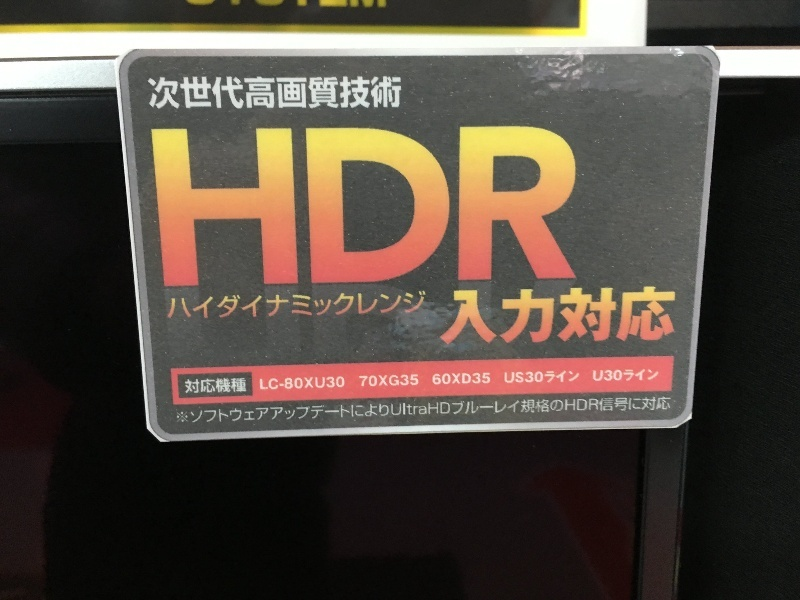text: (161, 126, 176, 289), (177, 126, 192, 289), (193, 126, 208, 289), (209, 126, 224, 289), (225, 126, 240, 289), (241, 126, 256, 289), (257, 126, 272, 289), (273, 126, 288, 289), (289, 126, 304, 289), (305, 126, 320, 289), (321, 126, 336, 289), (337, 126, 352, 289), (353, 126, 368, 289), (369, 126, 384, 289), (385, 126, 400, 289), (401, 126, 416, 289), (417, 126, 432, 289), (433, 126, 448, 289), (449, 126, 464, 289), (465, 126, 480, 289), (481, 126, 496, 289), (497, 126, 512, 289), (513, 126, 528, 289), (529, 126, 544, 289), (545, 126, 560, 289), (561, 126, 576, 289), (150, 126, 160, 289), (449, 286, 464, 344), (465, 286, 480, 344), (481, 286, 496, 344), (497, 286, 512, 344), (513, 286, 528, 344), (529, 286, 544, 344), (545, 286, 560, 344), (561, 286, 576, 344), (577, 286, 592, 344), (593, 286, 608, 344), (609, 286, 624, 344), (625, 286, 640, 344), (641, 286, 656, 344), (657, 286, 672, 344), (161, 76, 176, 110), (177, 76, 192, 110), (193, 76, 208, 110), (209, 76, 224, 110), (225, 76, 240, 110), (241, 76, 256, 110), (257, 76, 272, 110), (273, 76, 288, 110), (289, 76, 304, 110), (305, 76, 320, 110), (321, 76, 336, 110), (337, 76, 352, 110), (353, 76, 368, 110), (369, 76, 384, 110), (385, 76, 400, 110), (177, 290, 192, 321), (193, 290, 208, 321), (209, 290, 224, 321), (225, 290, 240, 321), (241, 290, 256, 321), (257, 290, 272, 321), (273, 290, 288, 321), (289, 290, 304, 321), (305, 290, 320, 321), (321, 290, 336, 321), (337, 290, 352, 321), (353, 290, 368, 321), (369, 290, 384, 321), (385, 290, 400, 321), (401, 290, 416, 321), (440, 286, 448, 344), (177, 396, 192, 426), (193, 396, 208, 426), (209, 396, 224, 426), (225, 396, 240, 426), (241, 396, 256, 426), (257, 396, 272, 426), (273, 396, 288, 426), (289, 396, 304, 426), (305, 396, 320, 426), (321, 396, 336, 426), (337, 396, 352, 426), (353, 396, 368, 426), (369, 396, 384, 426), (385, 396, 400, 426), (401, 396, 416, 426), (417, 396, 432, 426), (433, 396, 448, 426), (449, 396, 464, 426), (465, 396, 480, 426), (481, 396, 496, 426), (497, 396, 512, 426), (513, 396, 528, 426), (529, 396, 544, 426), (545, 396, 560, 426), (561, 396, 576, 426), (577, 396, 592, 426), (593, 396, 608, 426), (609, 396, 624, 426), (625, 396, 640, 426), (641, 396, 656, 426), (657, 396, 672, 426), (148, 76, 160, 110), (577, 126, 579, 289), (167, 290, 176, 321), (417, 290, 426, 321), (193, 377, 208, 393), (209, 377, 224, 393), (225, 377, 240, 393), (273, 376, 288, 390), (289, 376, 304, 390), (305, 376, 320, 390), (321, 376, 336, 390), (513, 371, 528, 384), (529, 371, 544, 384), (545, 371, 560, 384), (561, 371, 576, 384), (369, 375, 384, 387), (385, 375, 400, 387), (401, 375, 416, 387), (433, 373, 448, 385), (449, 373, 464, 385), (465, 373, 480, 385), (673, 286, 676, 344), (260, 376, 272, 390), (593, 370, 608, 381), (609, 370, 624, 381), (625, 370, 640, 381), (641, 370, 656, 381), (481, 373, 491, 385), (185, 377, 192, 393), (337, 376, 345, 390), (359, 375, 368, 387), (504, 371, 512, 384), (241, 377, 247, 393), (401, 76, 403, 110), (577, 371, 580, 384), (417, 375, 419, 387), (657, 370, 659, 381)
